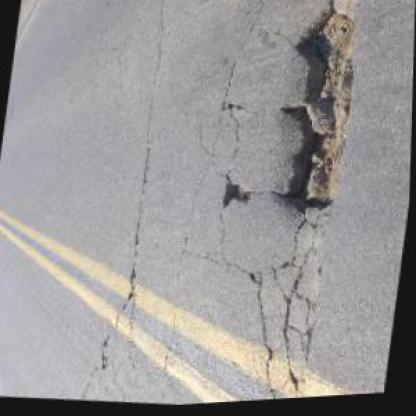pothole: (262, 0, 365, 226), (218, 179, 254, 212)
